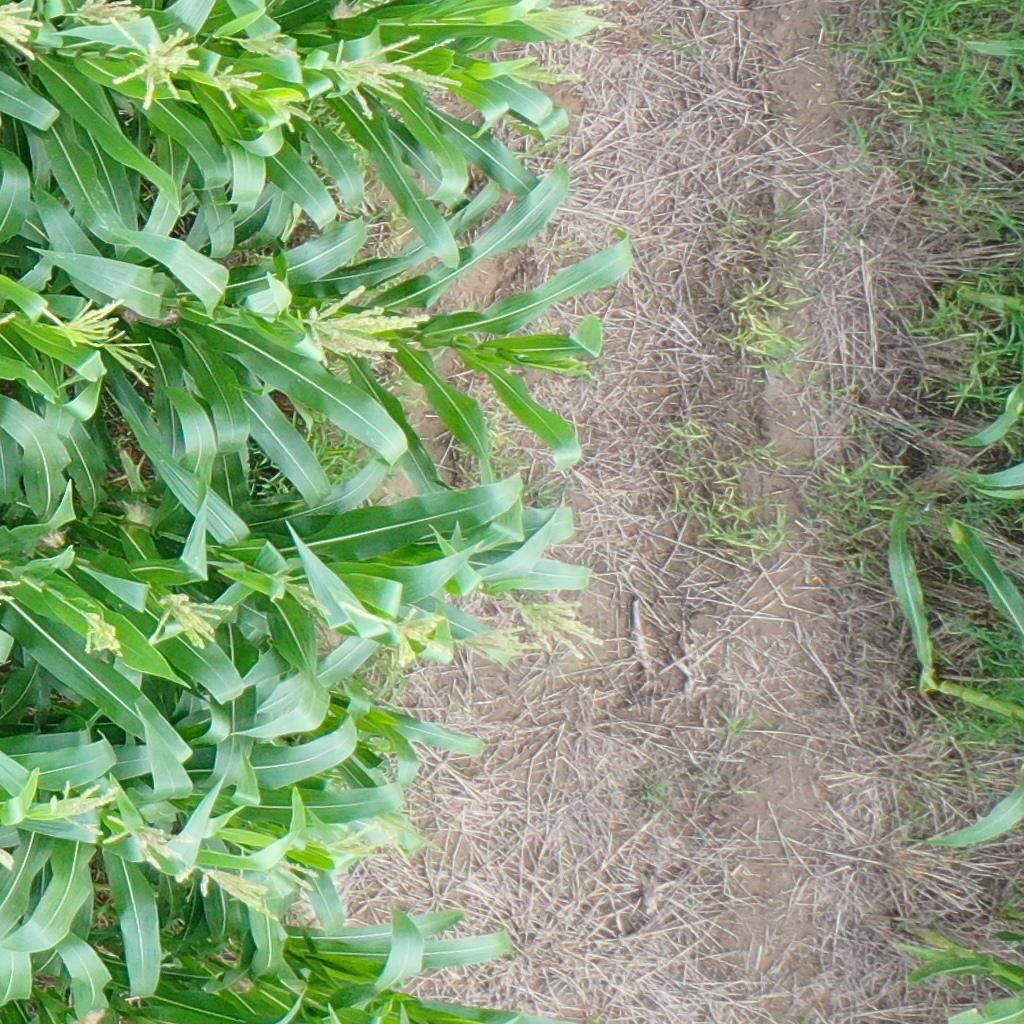Tassel: (322, 29, 467, 121), (302, 286, 427, 362), (105, 15, 206, 109), (144, 585, 237, 659), (178, 858, 283, 923), (516, 589, 605, 660), (102, 812, 198, 872), (514, 1, 620, 52), (40, 776, 122, 840), (452, 617, 541, 674), (372, 807, 444, 868), (52, 295, 127, 350), (387, 605, 447, 668), (99, 330, 163, 387), (323, 818, 388, 870), (502, 54, 583, 94), (206, 55, 263, 111), (1, 1, 49, 63), (78, 607, 129, 663), (234, 21, 299, 62), (266, 567, 326, 610), (267, 850, 322, 894), (265, 89, 314, 136), (70, 1, 143, 26)
